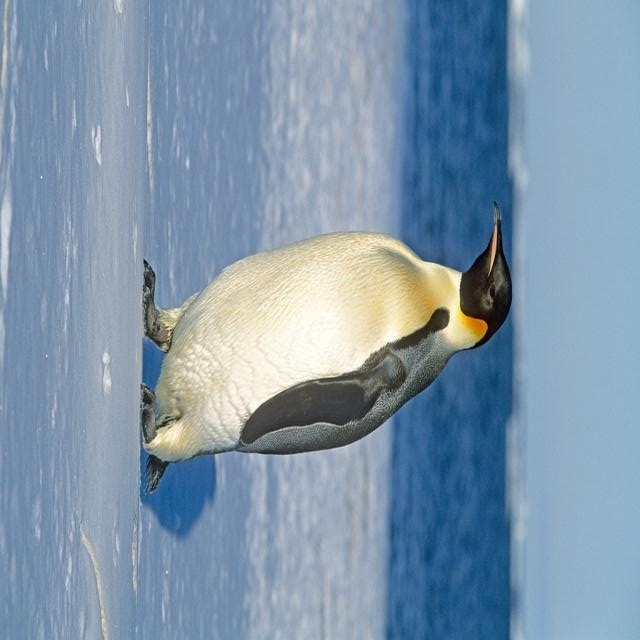penguin: (137, 201, 512, 495)
